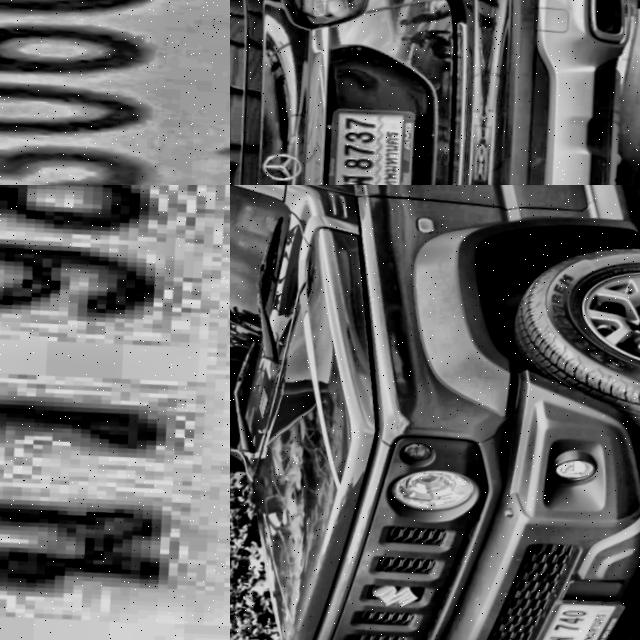license-plate: (0, 185, 230, 640), (0, 0, 230, 185), (317, 106, 420, 185), (519, 594, 634, 640)
